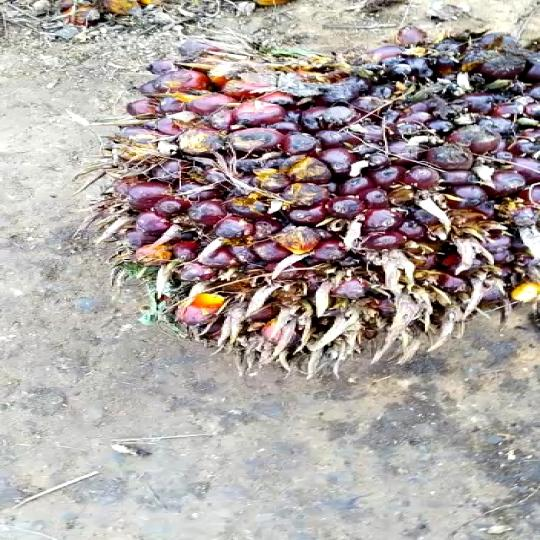masak: (90, 34, 540, 384)
